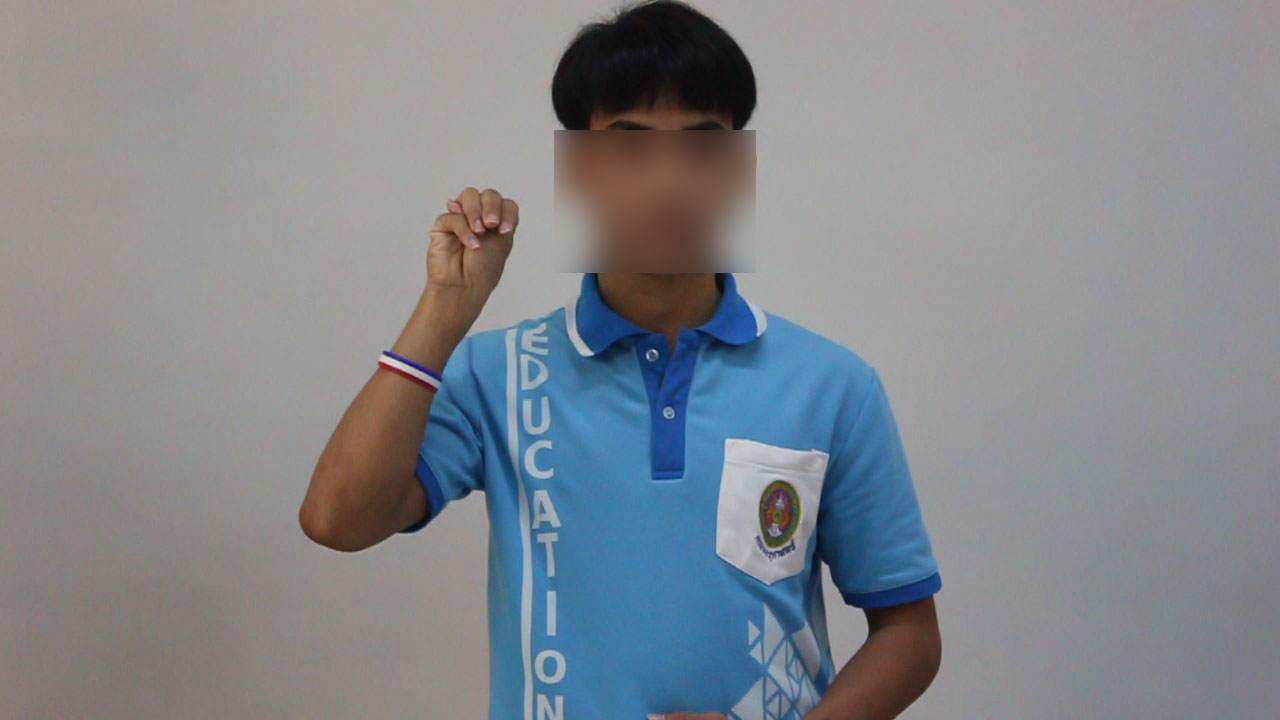mor: (424, 167, 520, 307)
